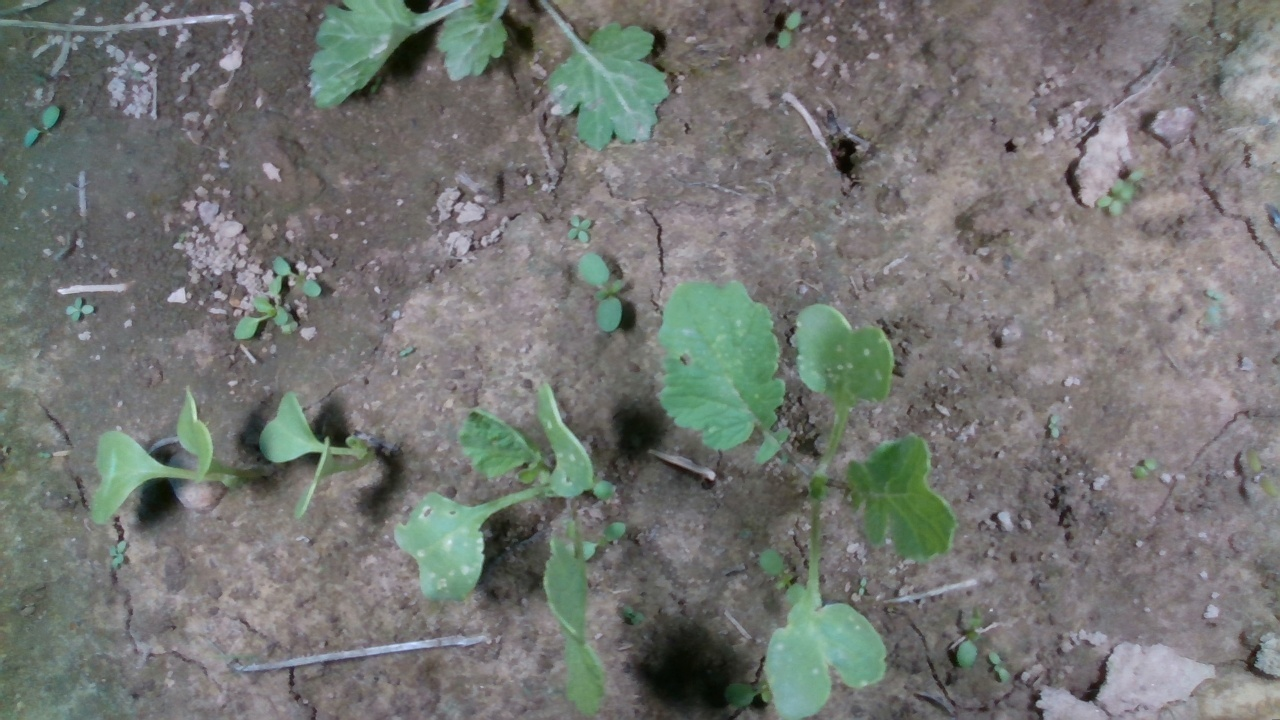weed: (576, 250, 624, 333), (22, 104, 61, 148), (775, 9, 803, 51), (986, 649, 1012, 684), (64, 296, 95, 322), (567, 212, 592, 243), (106, 537, 128, 569), (1131, 455, 1158, 478), (1047, 411, 1061, 440)
